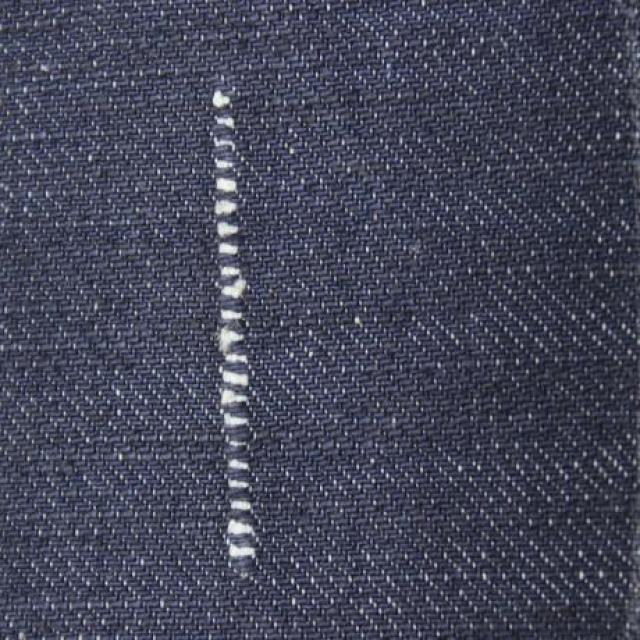stains: (153, 48, 305, 616)
